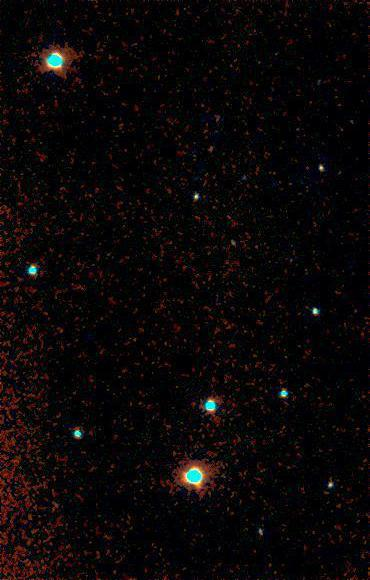star: (183, 470, 213, 500)
